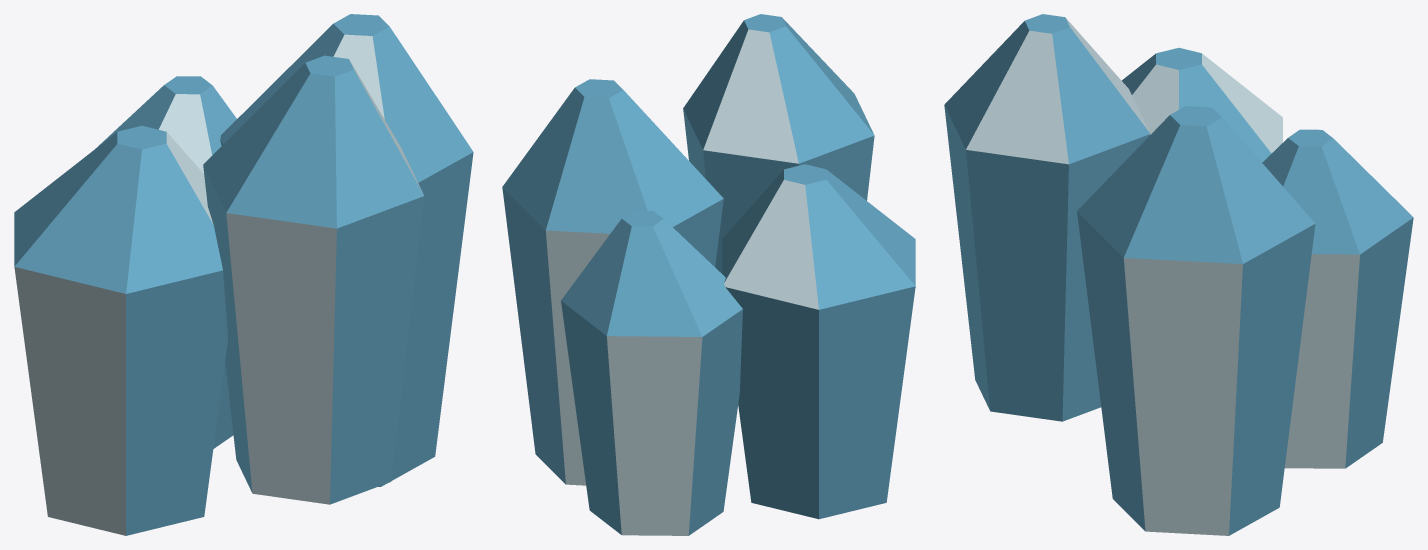
The picture shows the model from 3 angles, left to right: view 1: azimuth 30°, elevation 25°; view 2: azimuth 150°, elevation 25°; view 3: azimuth 270°, elevation 25°; orthographic projection. The views are drawn at different scales.
Visible parts, largest first — view 1: Ice_Deposit; view 2: Ice_Deposit; view 3: Ice_Deposit.
Boxes of the visible parts, x1,y1,x2,y2 form: Ice_Deposit: (14,14,473,535); Ice_Deposit: (502,14,915,535); Ice_Deposit: (944,14,1413,535).
Size of the model in its own units: 0.8334 by 0.84 by 0.8201.
